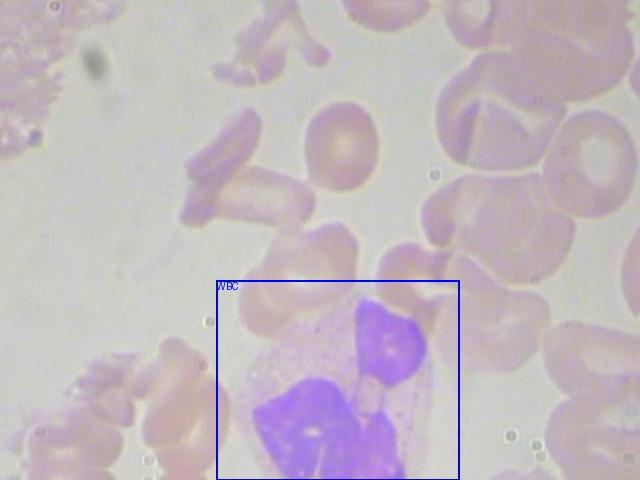WBC: (216, 280, 459, 480)
